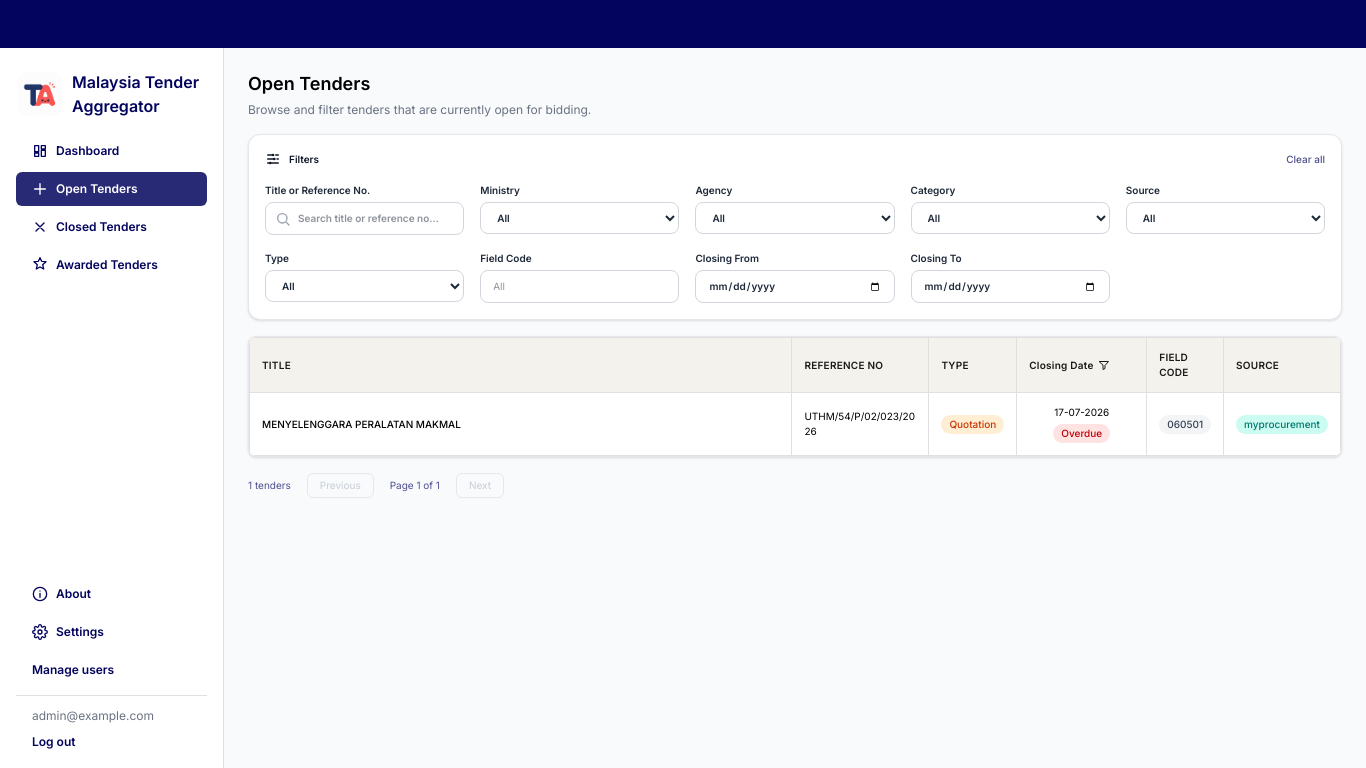
Test: App › shows a Manage users link for an admin, leading to the admin page
Expected: the text "MENYELENGGARA PERALATAN MAKMAL" is shown, 250,392 -> 792,456
Click the link "Manage users" at [73, 670], box 32,662 -> 114,677
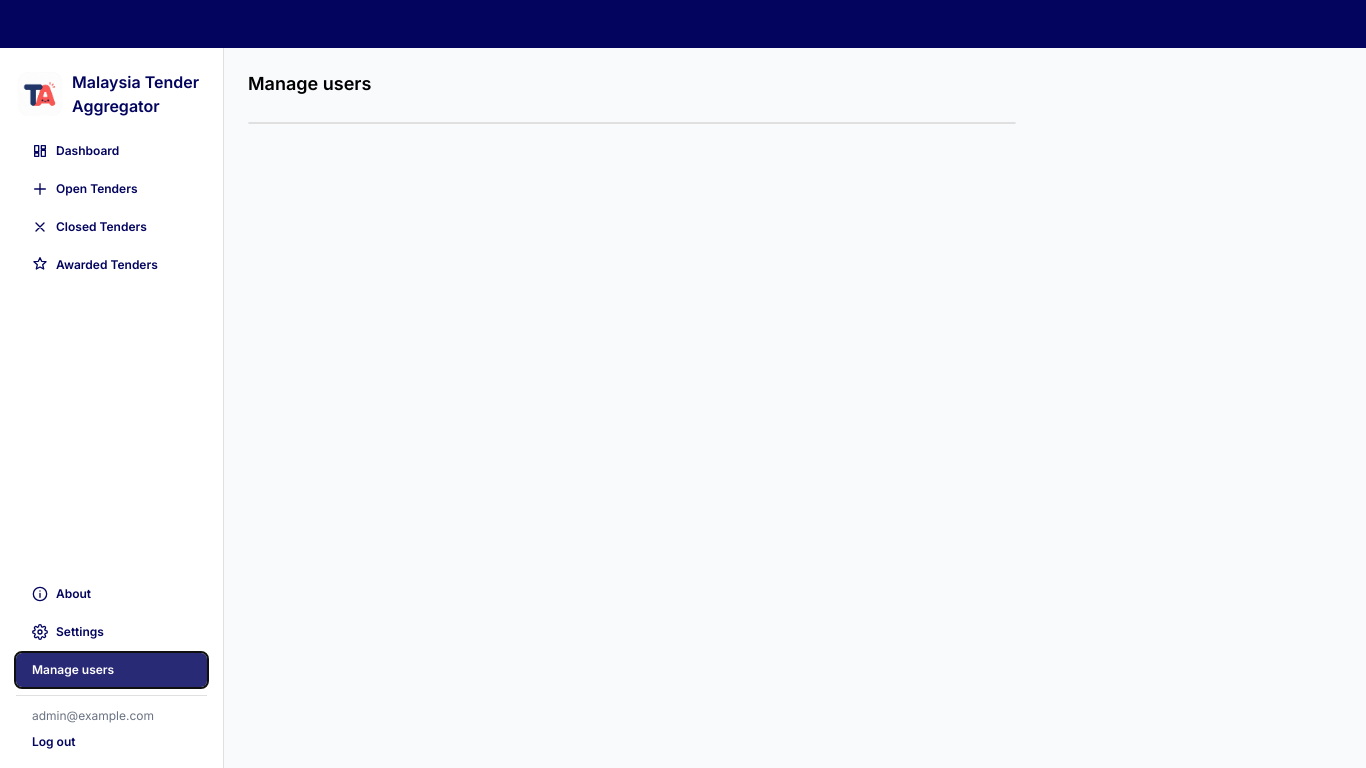
Expected: the heading "Manage users" is shown, 248,73 -> 371,94
